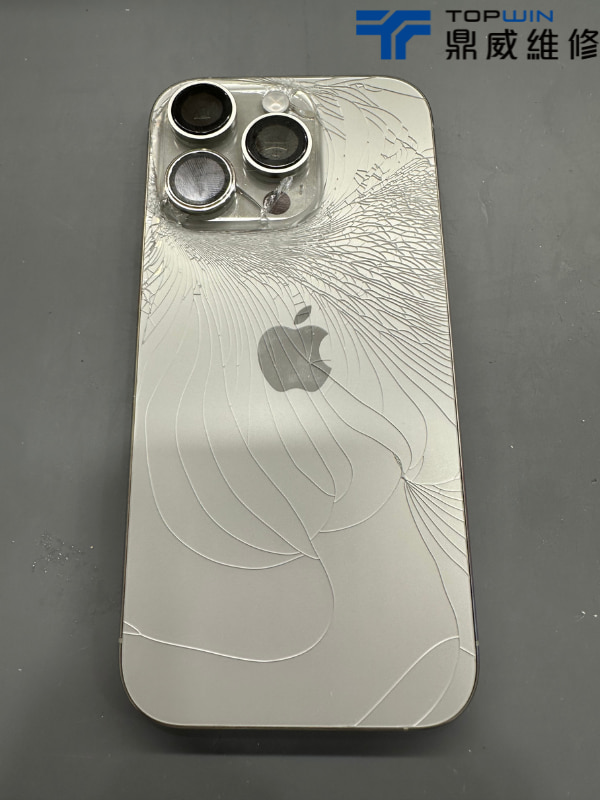crack_phone: (123, 65, 493, 749)
